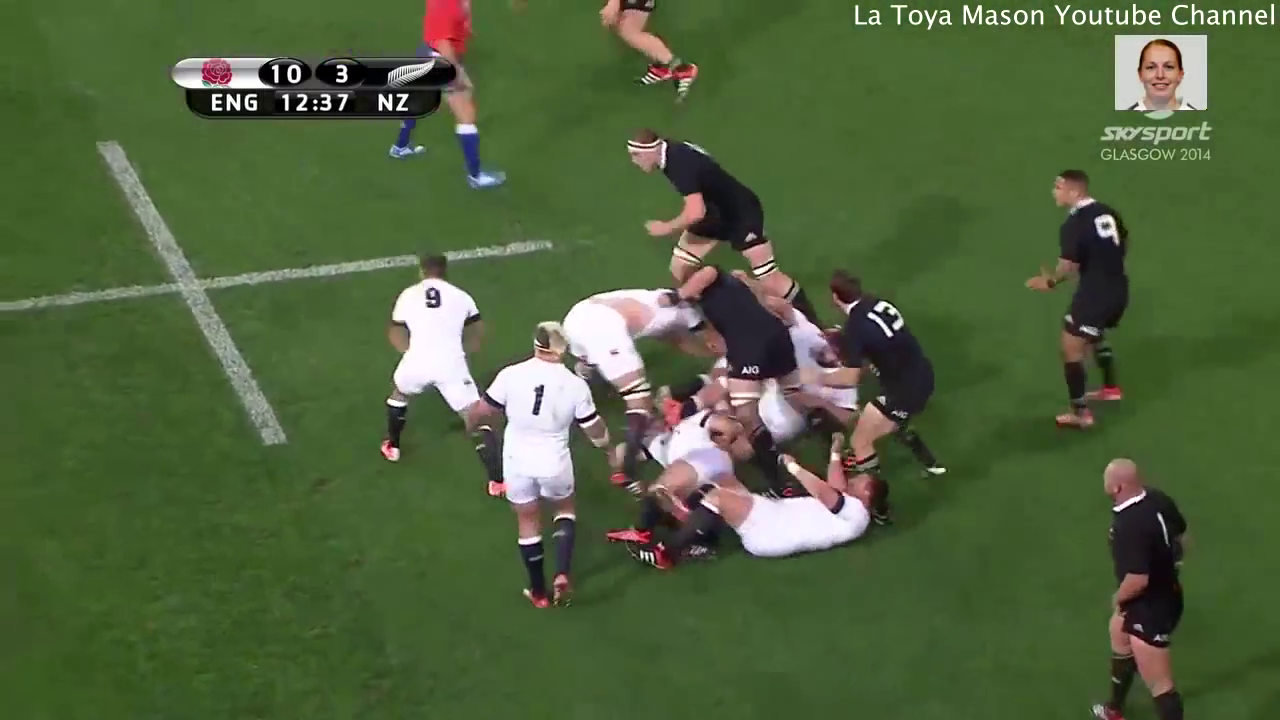10_metre: (1, 121, 554, 451)
player: (610, 123, 829, 336), (353, 230, 507, 503), (613, 424, 887, 573), (825, 251, 968, 528), (478, 316, 608, 607), (1010, 164, 1136, 430), (1068, 452, 1191, 720), (669, 259, 826, 467), (381, 1, 513, 190), (568, 288, 682, 496), (572, 1, 707, 108)
ruck: (558, 292, 917, 572)
